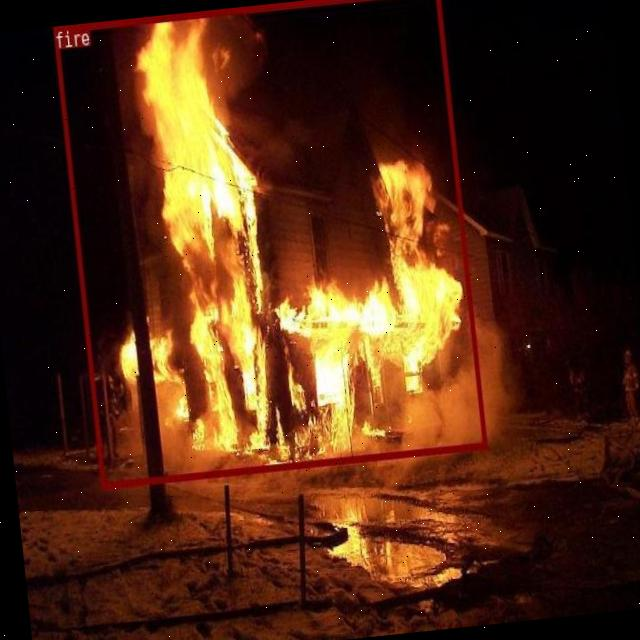fire: (52, 0, 486, 488)
